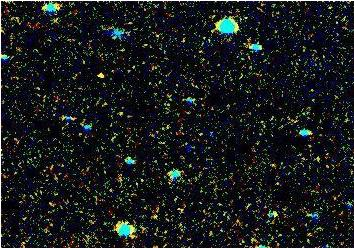star: (86, 59, 116, 89)
